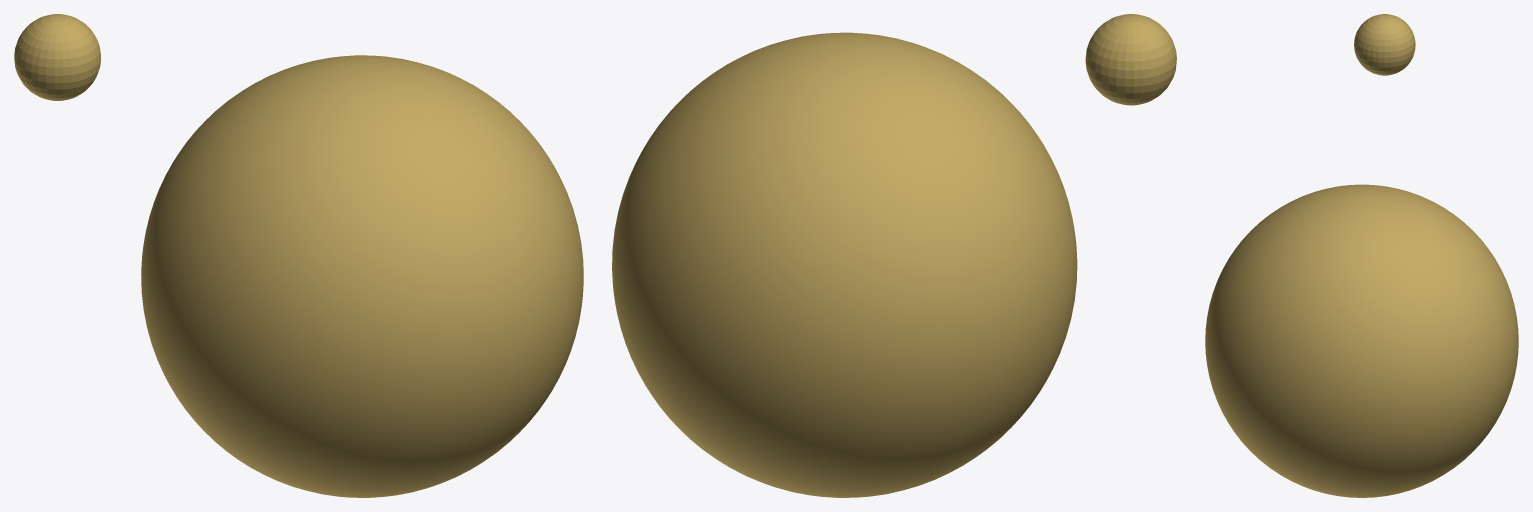
File: glob1.glb
3 views of the same model, side by side, from view 1: azimuth 30°, elevation 25°; view 2: azimuth 150°, elevation 25°; view 3: azimuth 270°, elevation 25° (orthographic). The views are drawn at different scales.
Visible parts, largest first — view 1: Icosphere, Sphere; view 2: Icosphere, Sphere; view 3: Icosphere, Sphere.
Boxes of the visible parts, x1,y1,x2,y2 form: Icosphere: (141,55,583,497); Sphere: (14,14,100,100); Icosphere: (612,32,1077,497); Sphere: (1085,14,1176,105); Icosphere: (1205,184,1518,497); Sphere: (1354,14,1415,75).
Bounding box in the file's own units: 4.54 × 4.34 × 3.36.
